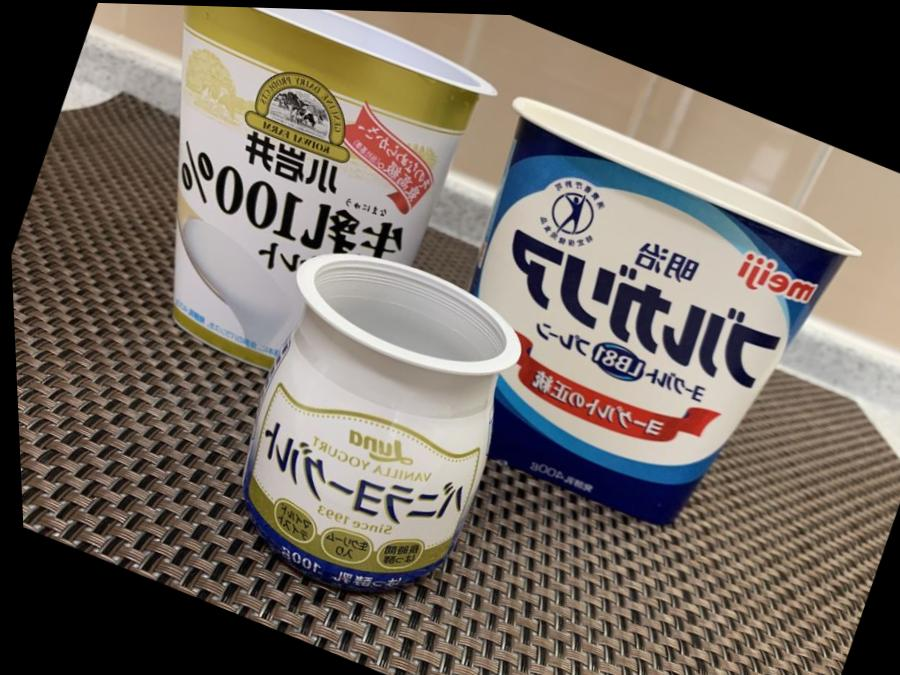plastic: (399, 78, 890, 572), (46, 1, 531, 428), (199, 221, 558, 630)
